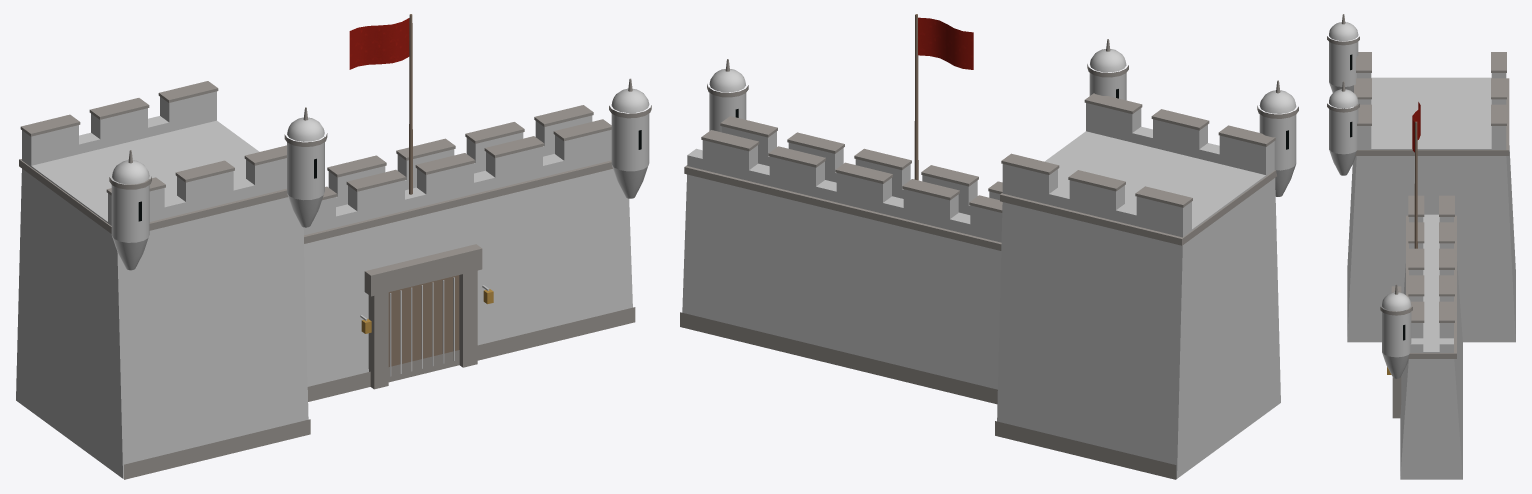
Rendered from SM_Art_Settlement_Fort_0.gltf.
3 views of the same model, side by side, from view 1: azimuth 30°, elevation 25°; view 2: azimuth 150°, elevation 25°; view 3: azimuth 270°, elevation 25° (orthographic). The views are drawn at different scales.
Visible parts, largest first — view 1: SM_Art_Settlement_Fort_0; view 2: SM_Art_Settlement_Fort_0; view 3: SM_Art_Settlement_Fort_0.
Boxes of the visible parts, x1,y1,x2,y2 form: SM_Art_Settlement_Fort_0: (16, 14, 651, 479); SM_Art_Settlement_Fort_0: (680, 14, 1298, 479); SM_Art_Settlement_Fort_0: (1327, 14, 1515, 479).
Bounding box in the file's own units: 21.5 × 12.65 × 7.91.
